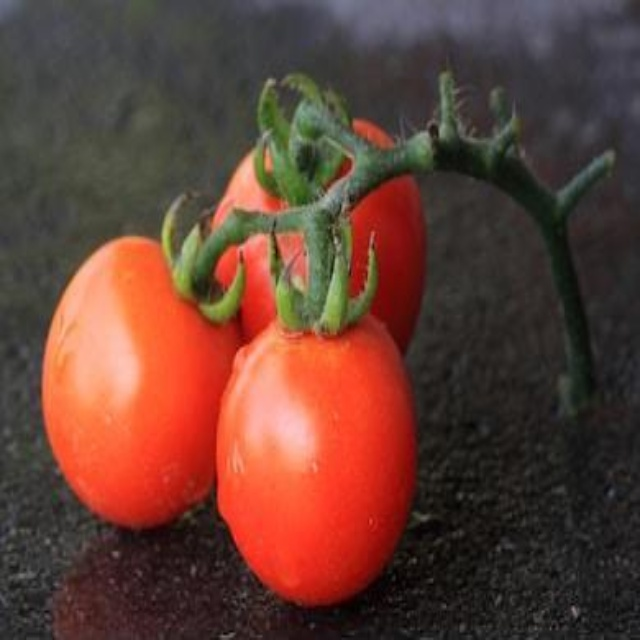tomato: (206, 307, 422, 600), (46, 230, 230, 533), (220, 102, 425, 352)
